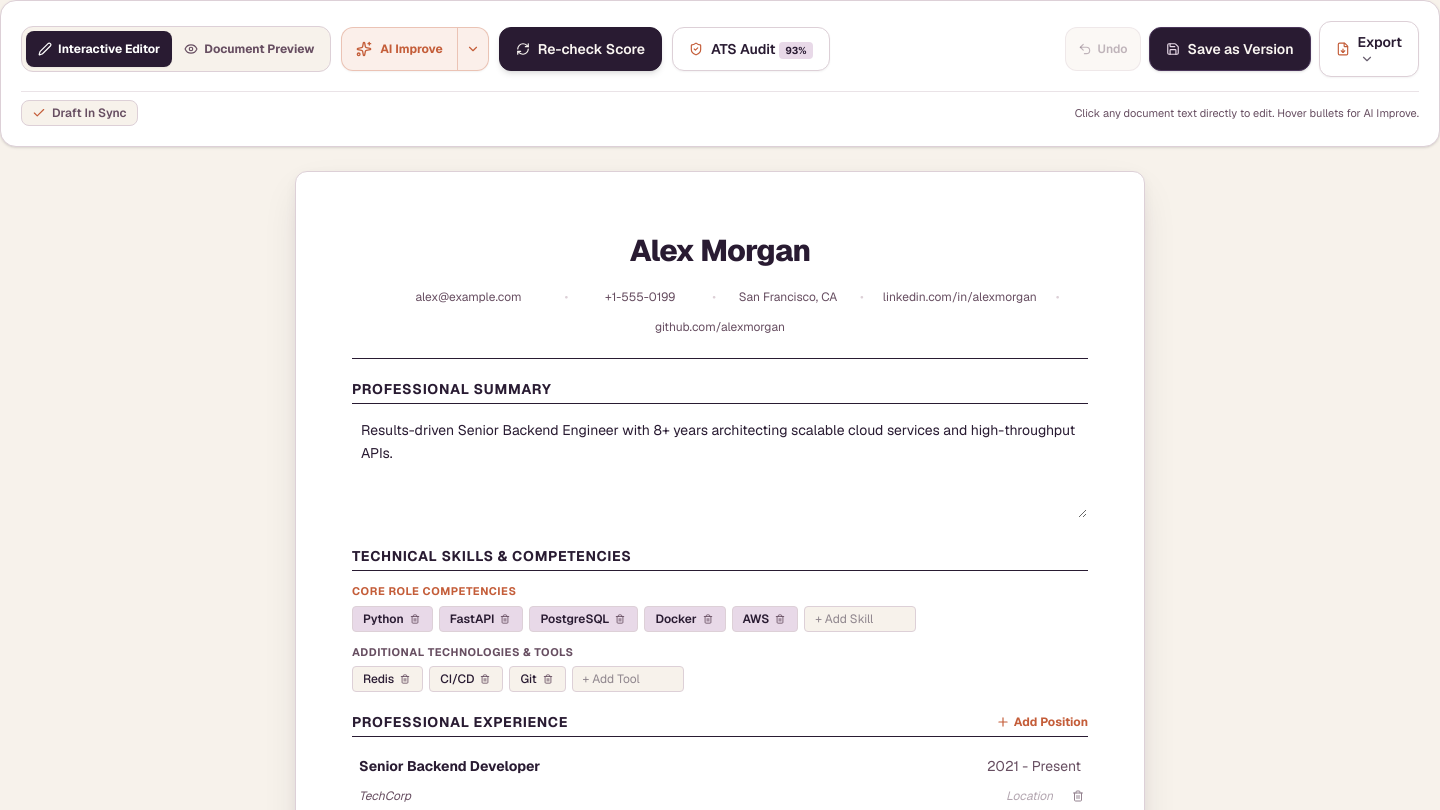
Test: Phase 6.5: InteractiveResumeEditor Candidate Name & Hybrid AI Improve UX › opens toolbar AI Improve action menu when nothing is focused
Click the button "AI Improve" at (400, 49), box [341,27,458,71]
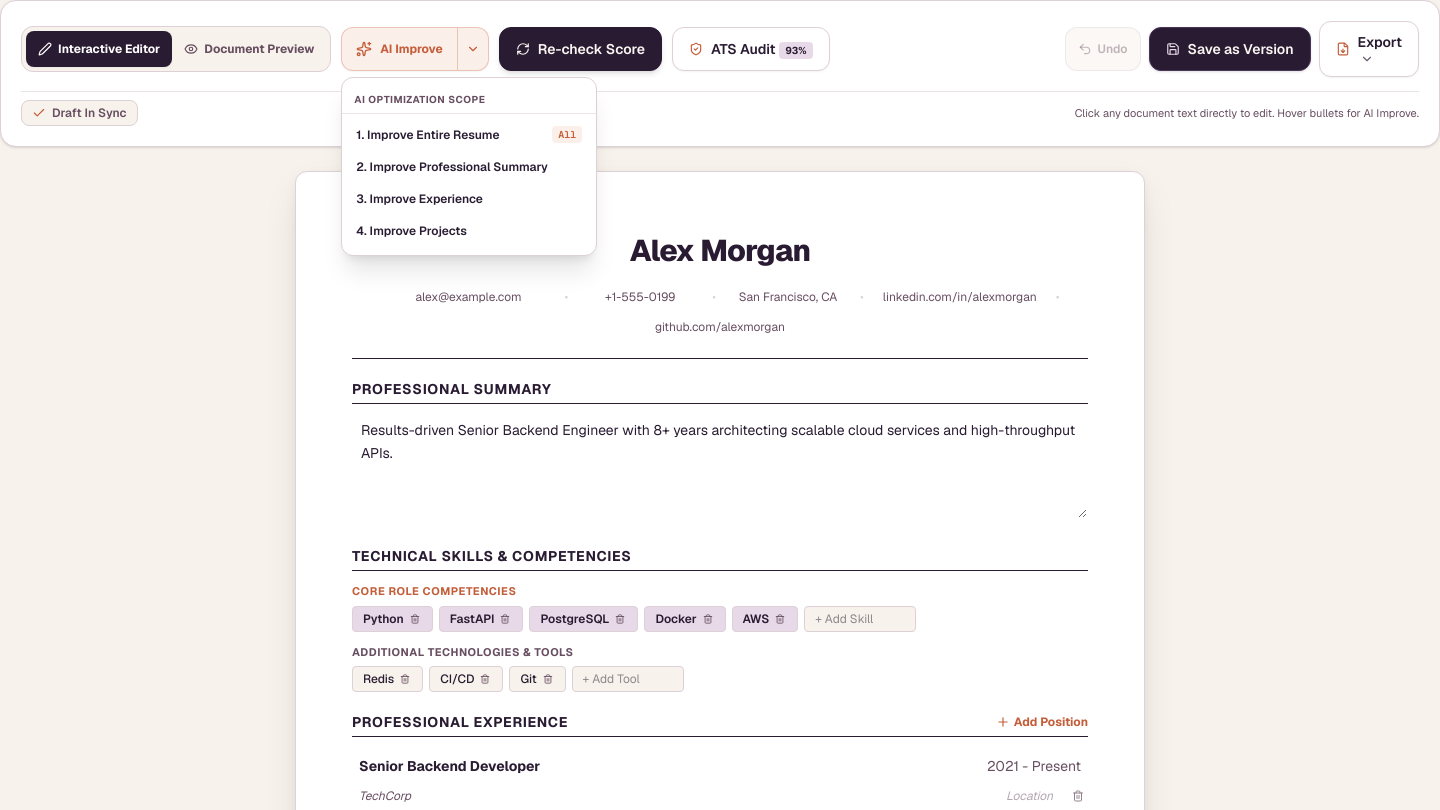
Expected: the text "AI Optimization Scope" is shown, [354,93,485,106]
Expected: the text "1. Improve Entire Resume" is shown, [356,127,499,143]
Expected: the text "2. Improve Professional Summary" is shown, [356,159,548,175]
